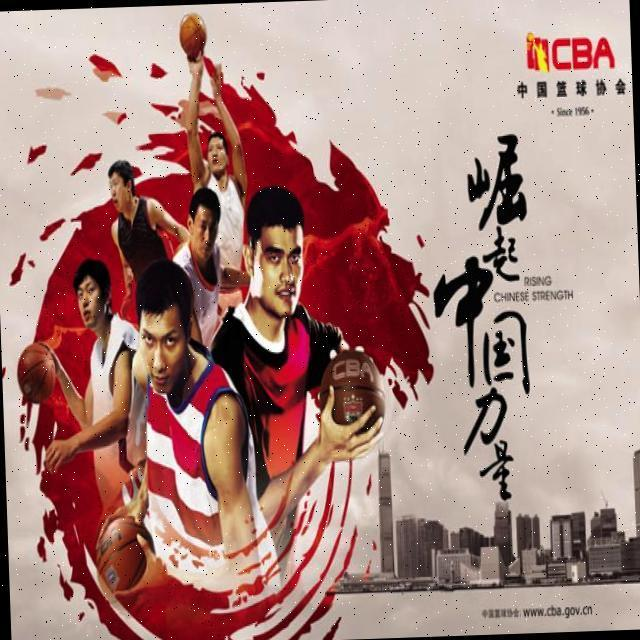ball: (16, 342, 56, 403)
